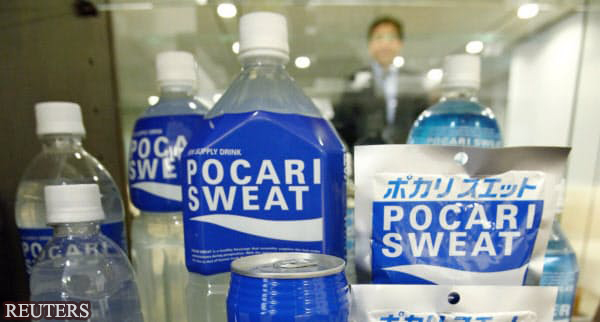POCARI SWEAT: (183, 2, 351, 322)
